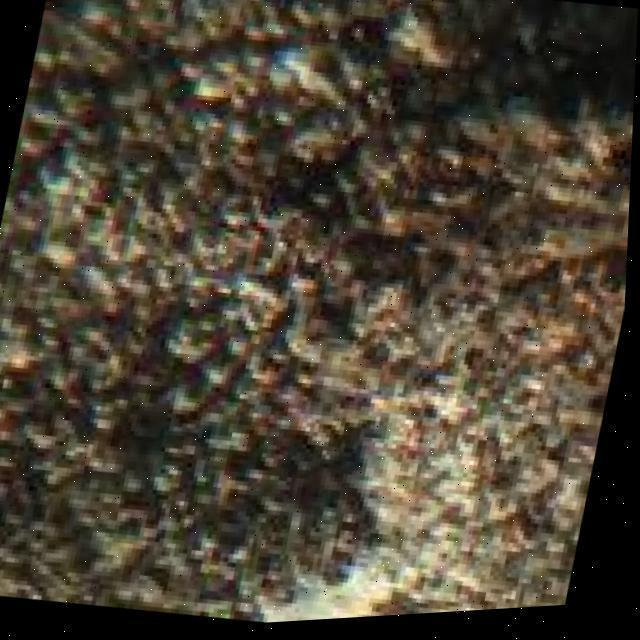Dead Coral: (31, 12, 584, 595)
